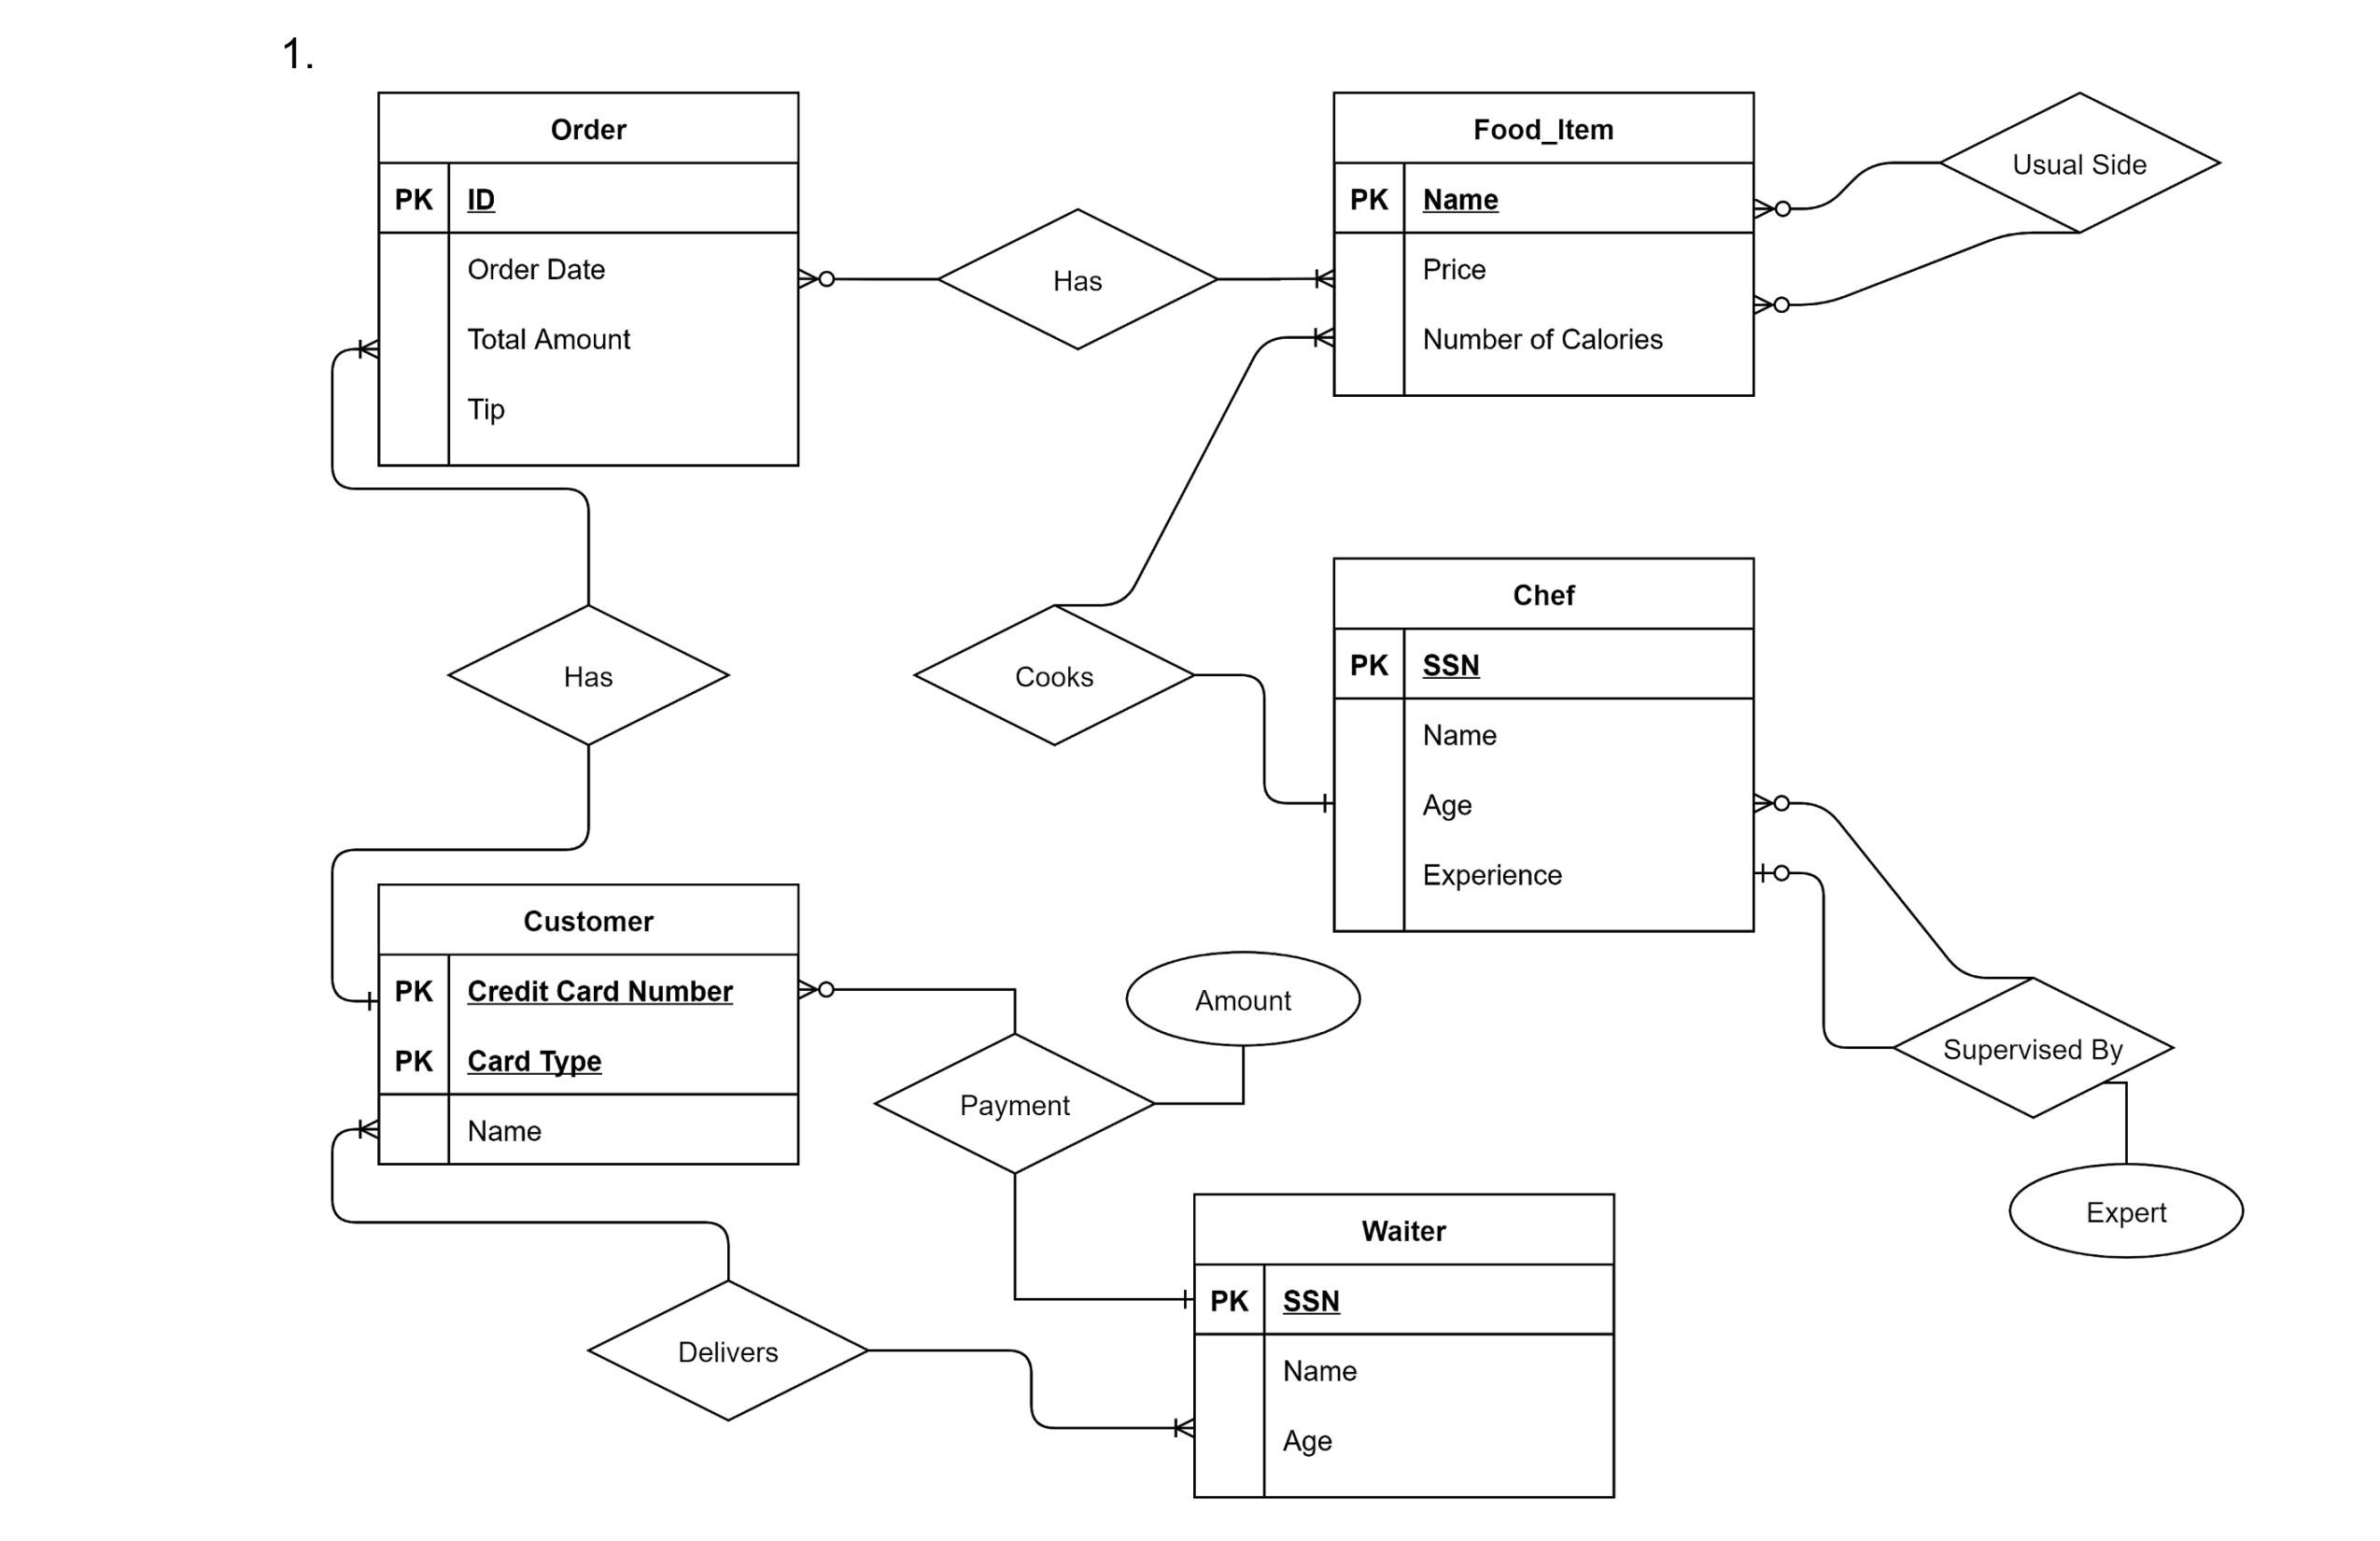Attribute: (2007, 1161, 2245, 1258), (1128, 949, 1362, 1045)
Entity: (375, 90, 801, 469), (1332, 555, 1757, 934), (1192, 1190, 1617, 1501), (1332, 90, 1756, 397), (376, 883, 801, 1168)
Relationship: (585, 1279, 869, 1423), (1939, 90, 2220, 234), (938, 207, 1218, 351), (1894, 977, 2175, 1119), (448, 604, 730, 744), (912, 606, 1195, 746), (873, 1034, 1155, 1171)
